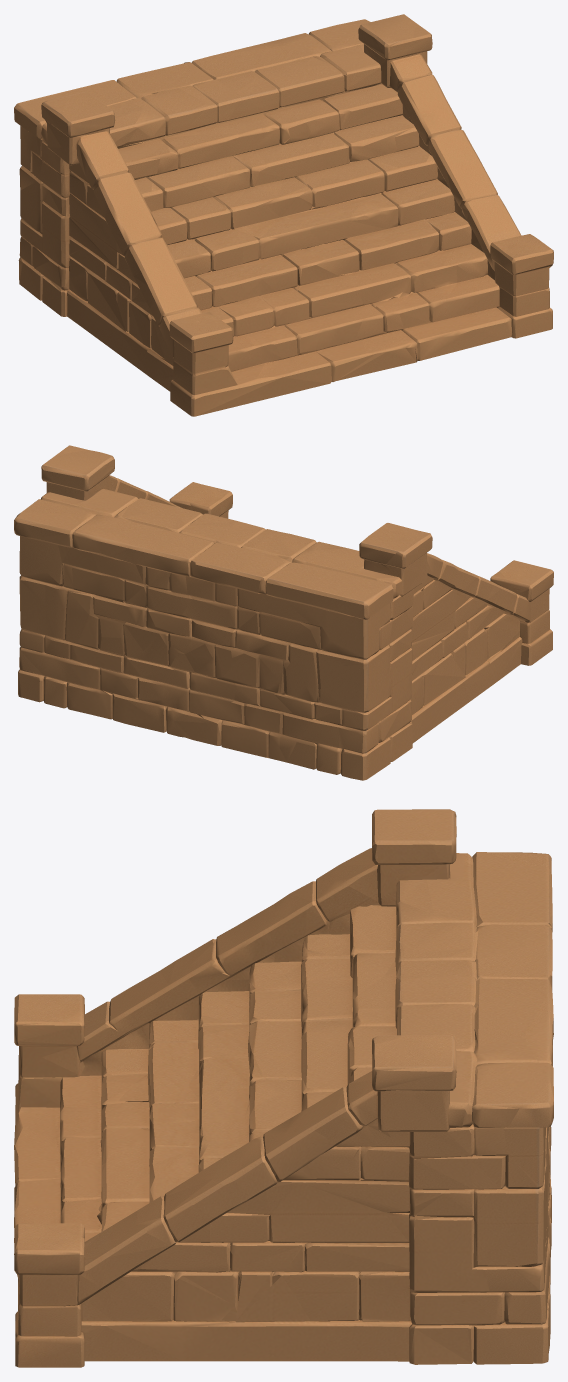
Rendered from stairs.glb.
3 renders of one model, top to bottom at view 1: azimuth 30°, elevation 25°; view 2: azimuth 150°, elevation 25°; view 3: azimuth 270°, elevation 25°, orthographic. The views are drawn at different scales.
Size of the model in its own units: 1.9 by 1.03 by 1.67.
Materials: 1 (1 with a texture image).
